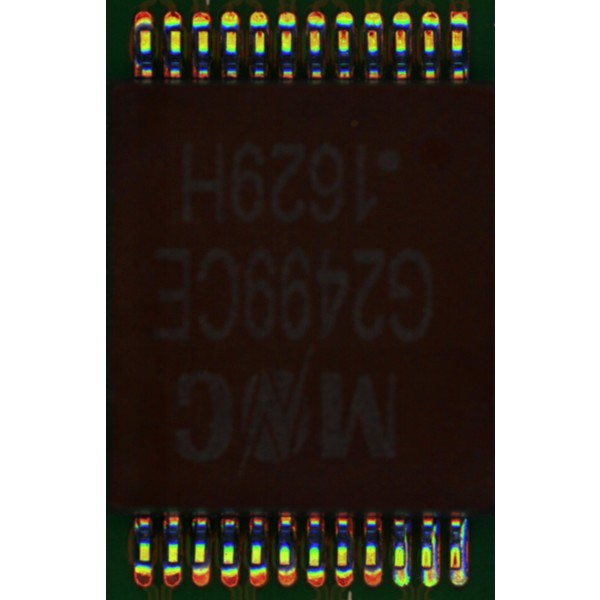Bad_podu: (395, 562, 404, 576), (422, 563, 432, 575), (452, 563, 461, 574)
Bad_qiaojiao: (461, 518, 467, 568), (432, 525, 437, 567), (404, 526, 409, 567)
